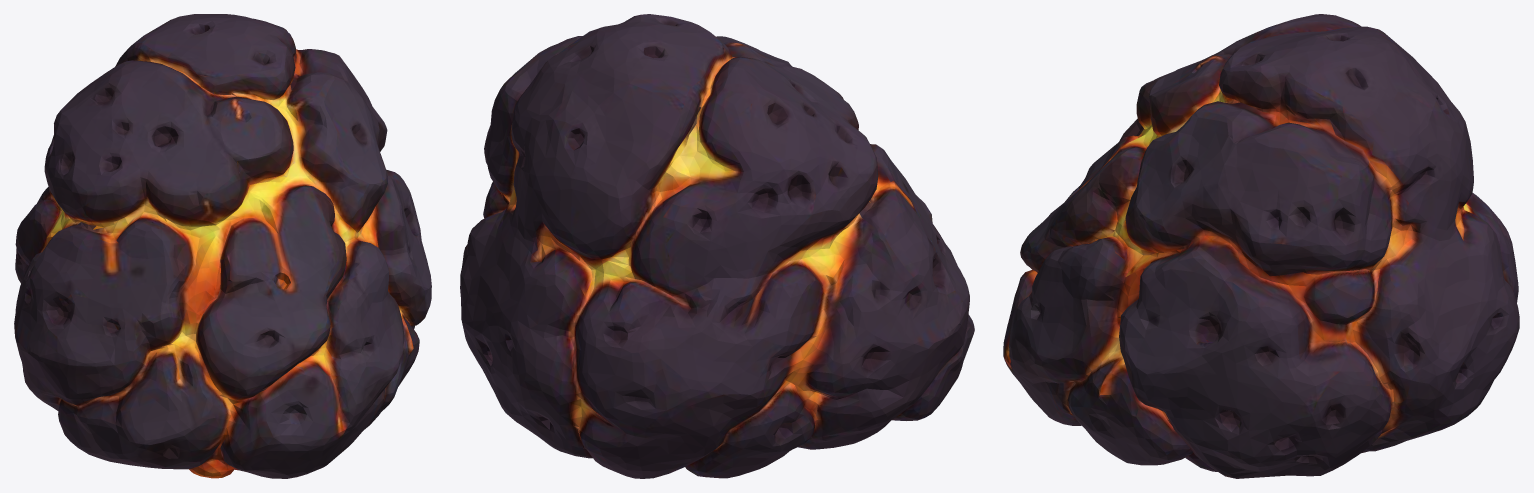
Rendered from lava_rock.glb.
The picture shows the model from 3 angles, left to right: view 1: azimuth 30°, elevation 25°; view 2: azimuth 150°, elevation 25°; view 3: azimuth 270°, elevation 25°; orthographic projection. The views are drawn at different scales.
Visible parts, largest first — view 1: tmpfkie42__.ply; view 2: tmpfkie42__.ply; view 3: tmpfkie42__.ply.
Part boxes in pixels (bbox=[...]): tmpfkie42__.ply: bbox=[14, 14, 431, 478]; tmpfkie42__.ply: bbox=[460, 14, 974, 478]; tmpfkie42__.ply: bbox=[1003, 14, 1519, 478].
Bounding box in the file's own units: 1.99 × 1.7 × 1.99.
1 material, 1 textured.
